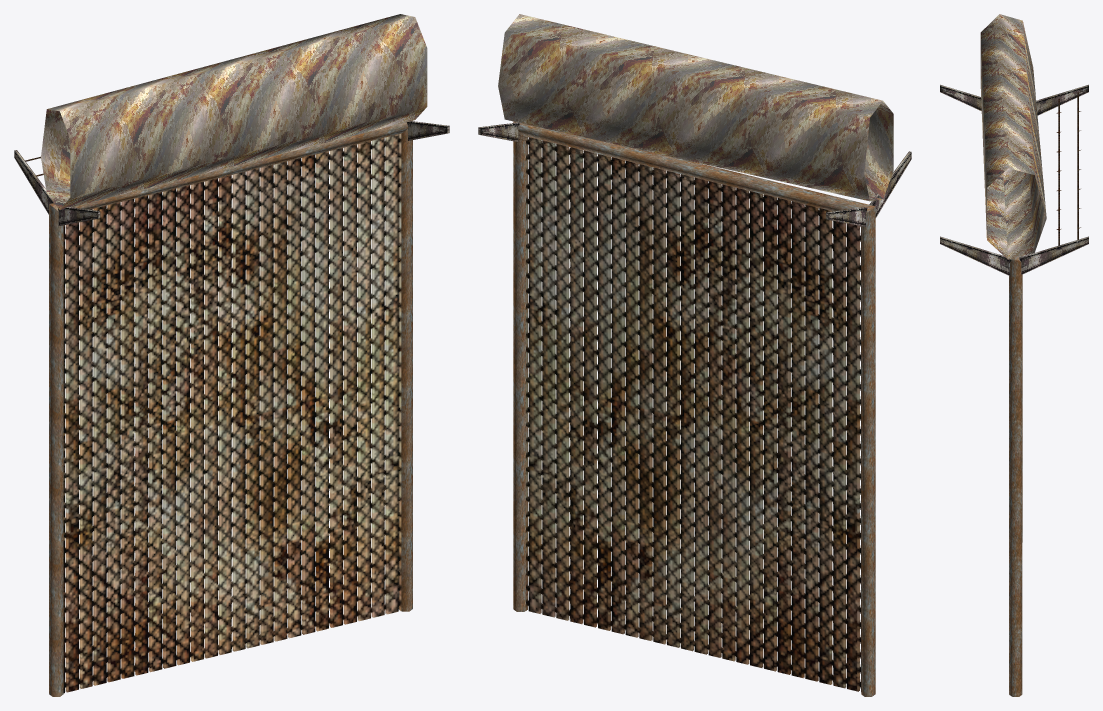
Rendered from fence2m_slum.fbx.
3 views of the same model, side by side, from view 1: azimuth 30°, elevation 25°; view 2: azimuth 150°, elevation 25°; view 3: azimuth 270°, elevation 25° (orthographic). The views are drawn at different scales.
Parts seen in each view (by area): view 1: mesh_2, mesh_0, mesh_3, mesh_1; view 2: mesh_2, mesh_0, mesh_3, mesh_1; view 3: mesh_0, mesh_3, mesh_1.
Part boxes in pixels (left/top/right/bottom): mesh_2: left=63, top=134, right=401, bottom=693; mesh_0: left=41, top=14, right=427, bottom=210; mesh_3: left=49, top=120, right=412, bottom=696; mesh_1: left=14, top=121, right=449, bottom=225; mesh_2: left=526, top=136, right=861, bottom=691; mesh_0: left=498, top=14, right=893, bottom=201; mesh_3: left=513, top=121, right=875, bottom=696; mesh_1: left=478, top=122, right=911, bottom=226; mesh_0: left=980, top=14, right=1046, bottom=259; mesh_3: left=1009, top=256, right=1022, bottom=696; mesh_1: left=940, top=84, right=1088, bottom=275.
Bounding box in the file's own units: 200 × 315 × 80.34.
4 materials, 4 textured.
